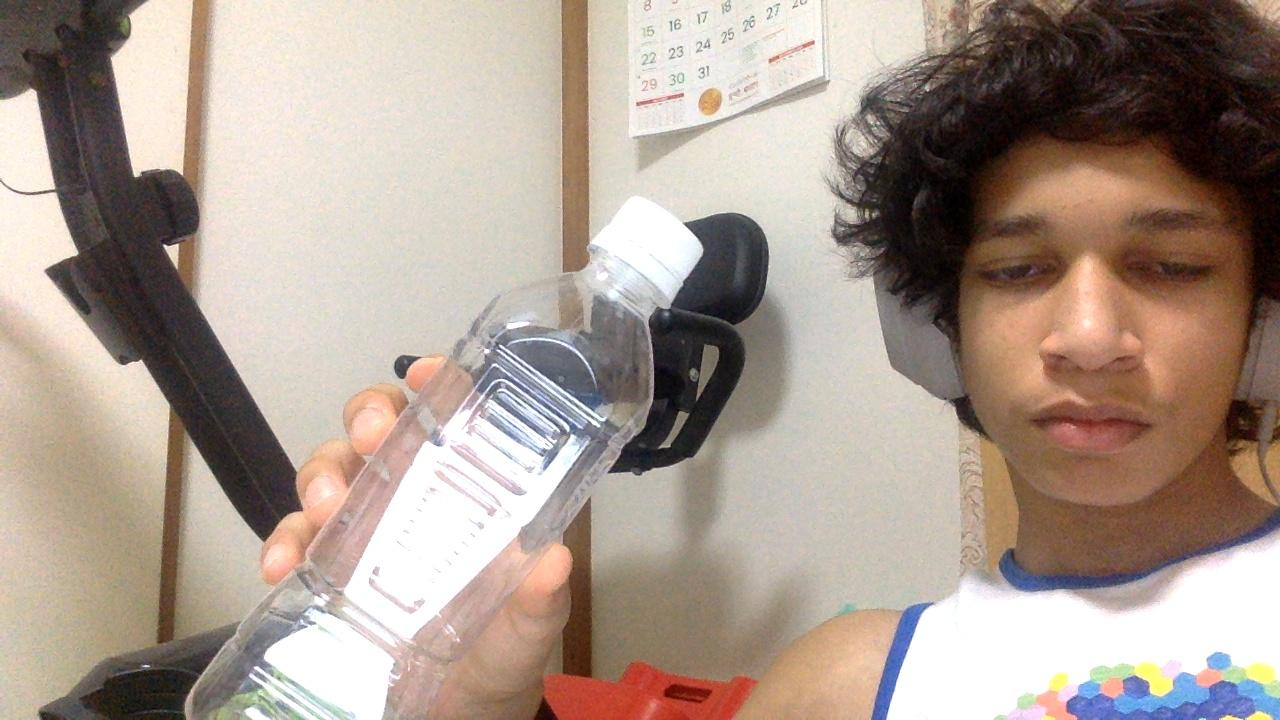Plastic: (186, 197, 706, 720)
